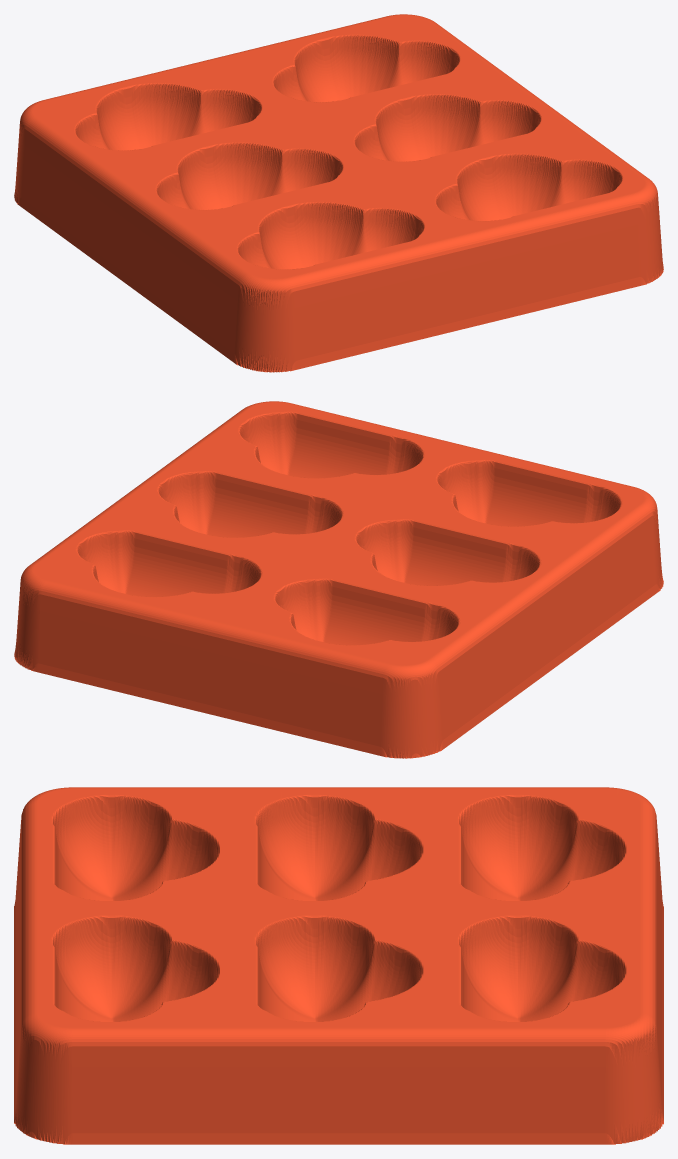
Rendered from mold.glb.
3 renders of one model, top to bottom at view 1: azimuth 30°, elevation 25°; view 2: azimuth 150°, elevation 25°; view 3: azimuth 270°, elevation 25°, orthographic. The views are drawn at different scales.
Visible parts, largest first — view 1: geometry_0; view 2: geometry_0; view 3: geometry_0.
Boxes of the visible parts, left/top/right/bottom form: geometry_0: left=14, top=14, right=663, bottom=372; geometry_0: left=14, top=401, right=663, bottom=758; geometry_0: left=14, top=787, right=663, bottom=1144.
Size of the model in its own units: 0.0947 by 0.0182 by 0.1005.
